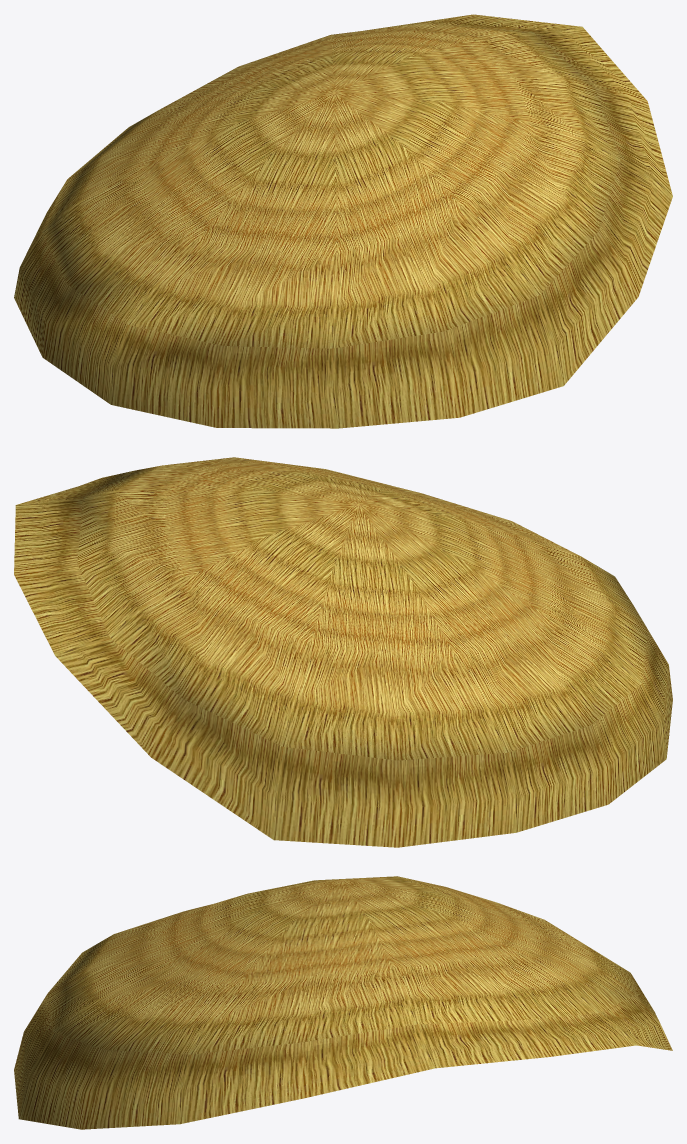
Rendered from HTOWN01_HANNA-ROOF.obj.
3 renders of one model, top to bottom at view 1: azimuth 30°, elevation 25°; view 2: azimuth 150°, elevation 25°; view 3: azimuth 270°, elevation 25°, orthographic. The views are drawn at different scales.
Visible parts, largest first — view 1: Hanna-Roof; view 2: Hanna-Roof; view 3: Hanna-Roof.
Boxes of the visible parts, box(x1,y1,x2,y2) form: Hanna-Roof: box(14, 14, 672, 428); Hanna-Roof: box(14, 457, 672, 847); Hanna-Roof: box(14, 876, 672, 1129).
Bounding box in the file's own units: 769 × 288 × 754.
